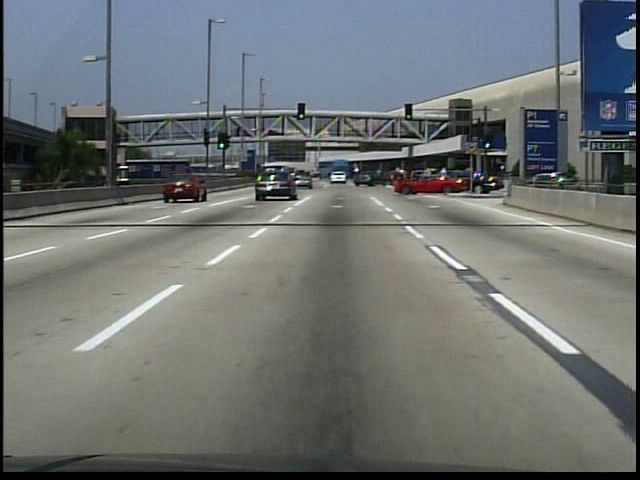person: (236, 127, 242, 139)
